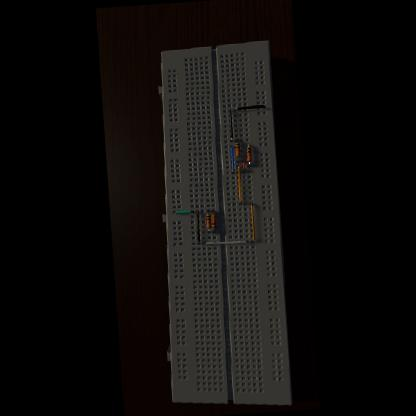breadboard: (146, 39, 295, 412)
resistor: (212, 213, 218, 228), (206, 214, 212, 228), (235, 142, 240, 156), (247, 146, 252, 160)
wire: (204, 239, 249, 245), (250, 202, 256, 242), (238, 165, 244, 204), (235, 104, 265, 110), (196, 210, 201, 243), (230, 144, 234, 172), (230, 108, 233, 141), (174, 209, 193, 212), (242, 159, 246, 172), (248, 162, 250, 166), (208, 209, 210, 212), (238, 156, 239, 161), (209, 228, 210, 232), (215, 229, 216, 232), (214, 210, 215, 213), (237, 139, 238, 141), (248, 144, 249, 146)
